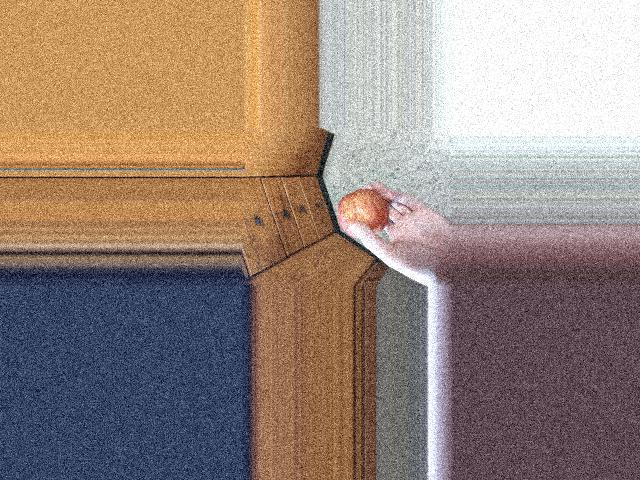apple: (331, 185, 398, 245)
